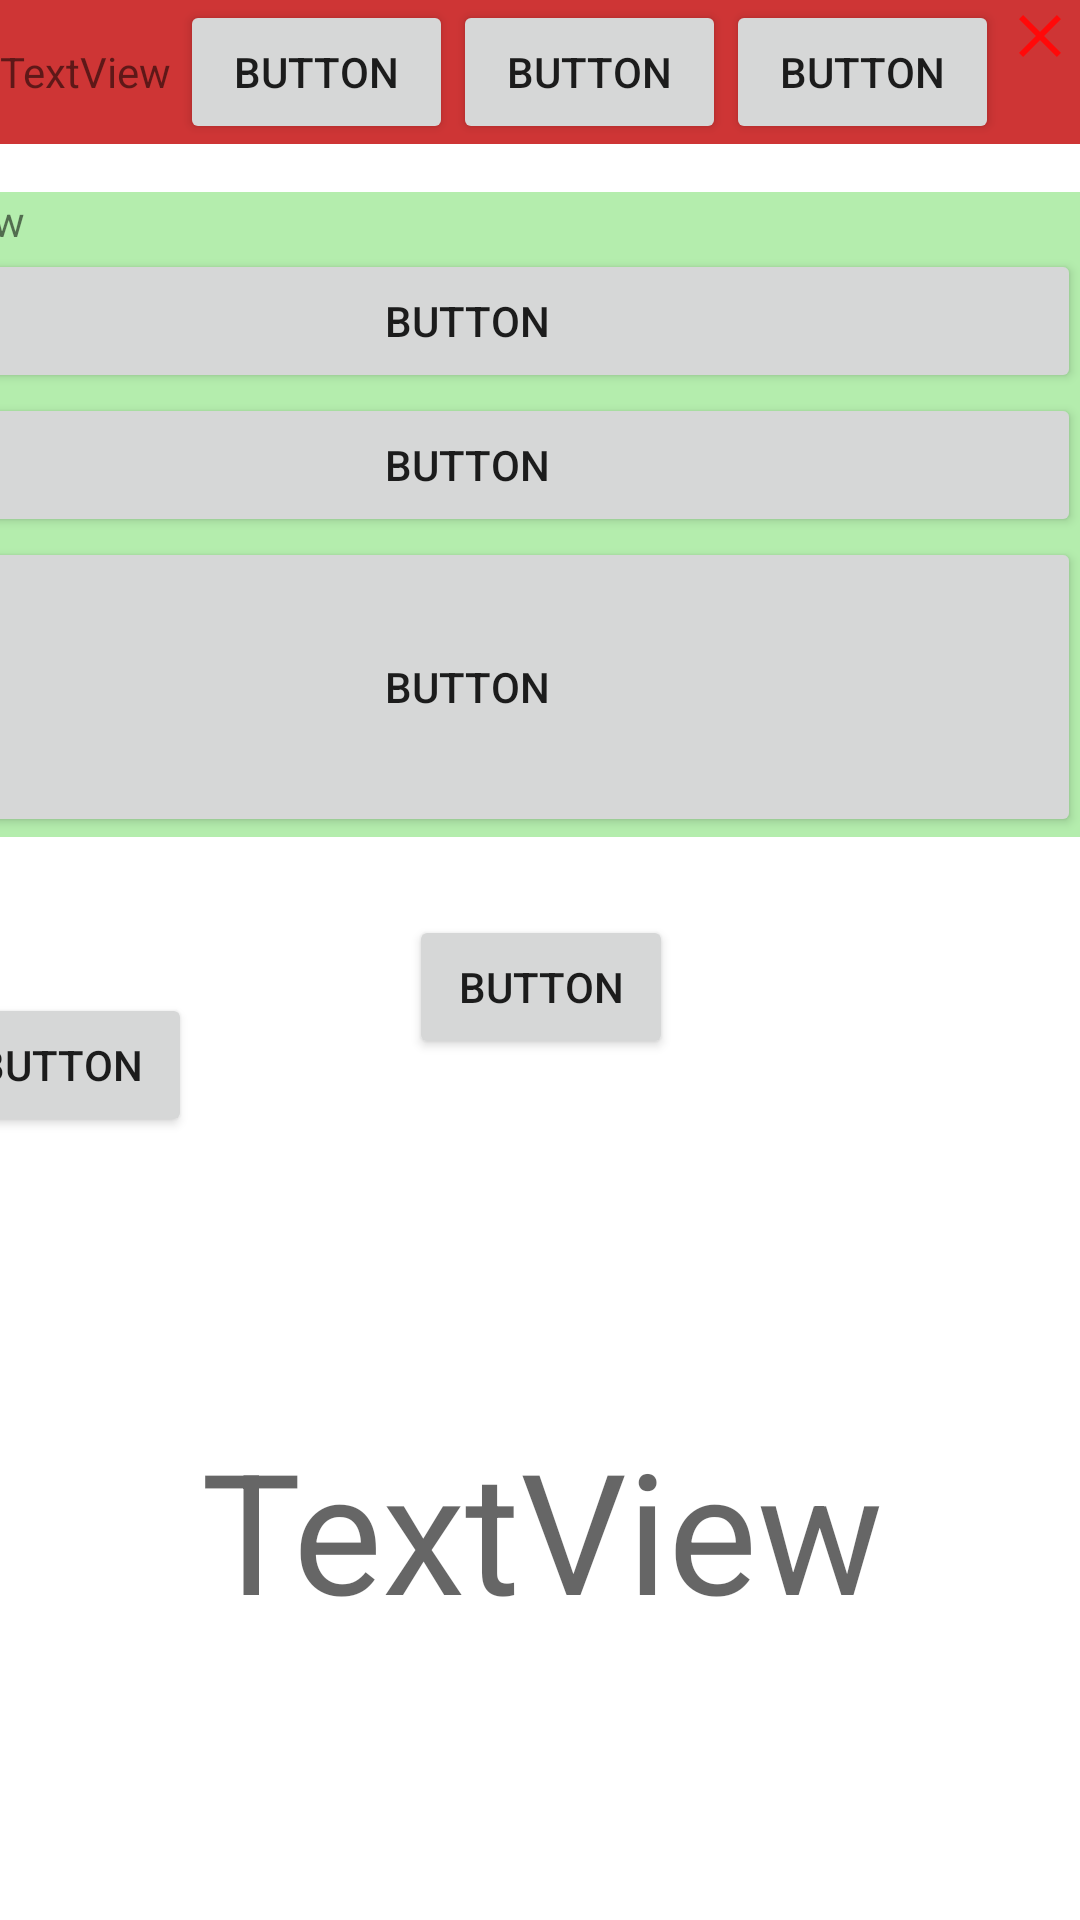

Locate icon controls on the screen. Image size 1080x1920, boxes as {"left": x1, "top": y1, "right": x2, "bottom": y2}.
close: {"left": 1019, "top": 15, "right": 1061, "bottom": 57}
